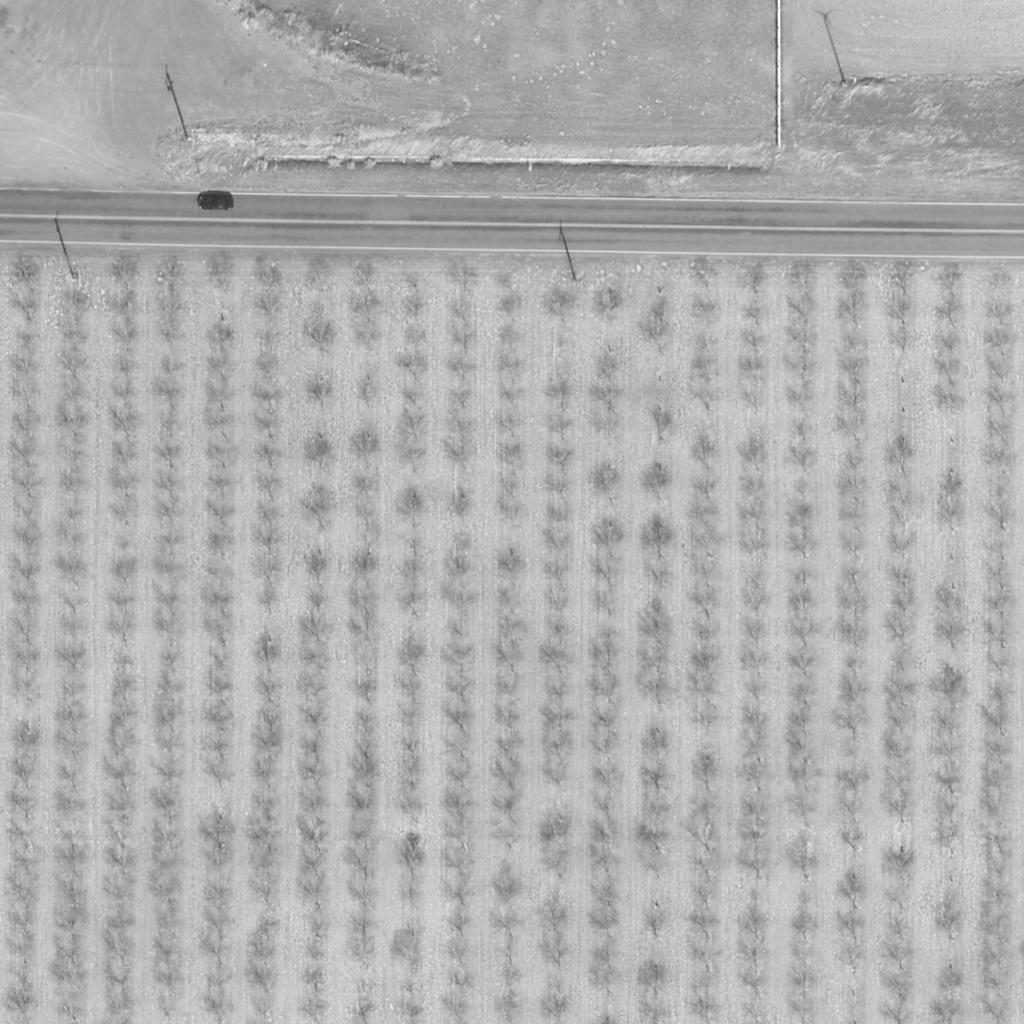vehicle: (195, 191, 235, 211)
